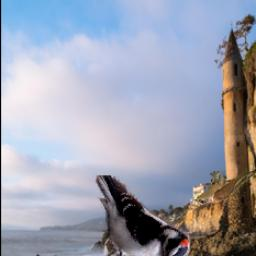Cuckoo: (192, 161, 256, 206)
Woodpecker: (96, 175, 190, 256)
